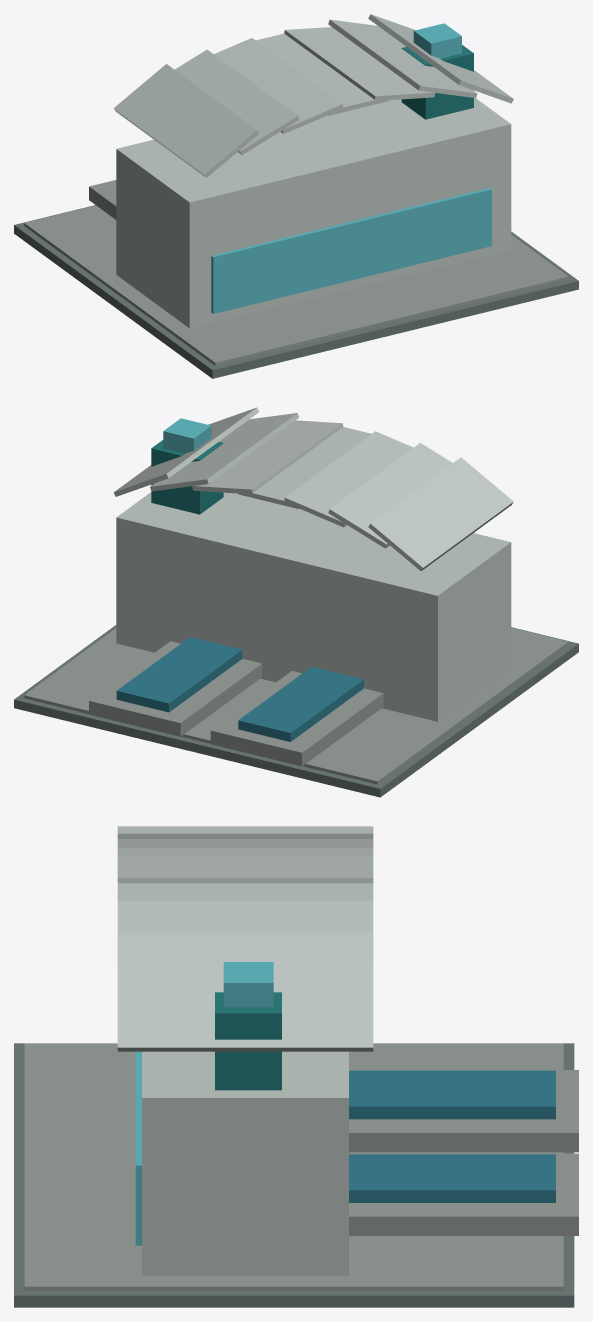
Rendered from airport_terminal_lv2.glb.
The picture shows the model from 3 angles, top to bottom: view 1: azimuth 30°, elevation 25°; view 2: azimuth 150°, elevation 25°; view 3: azimuth 270°, elevation 25°; orthographic projection. The views are drawn at different scales.
Visible parts, largest first — view 1: rough, glossy; view 2: rough, glossy; view 3: rough, glossy.
Boxes of the visible parts, x1,y1,x2,y2 form: rough: (14,14,578,378); glossy: (211,23,491,313); rough: (14,407,578,797); glossy: (116,418,363,741); rough: (14,826,578,1307); glossy: (135,962,555,1245).
Size of the model in its own units: 9.8 by 5.35 by 9.27.
